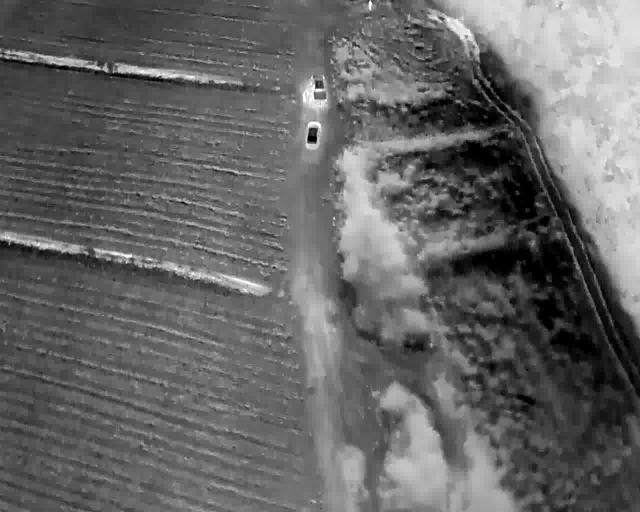car: (310, 72, 327, 105), (306, 121, 321, 148)
person: (367, 0, 373, 11), (301, 91, 306, 104)
